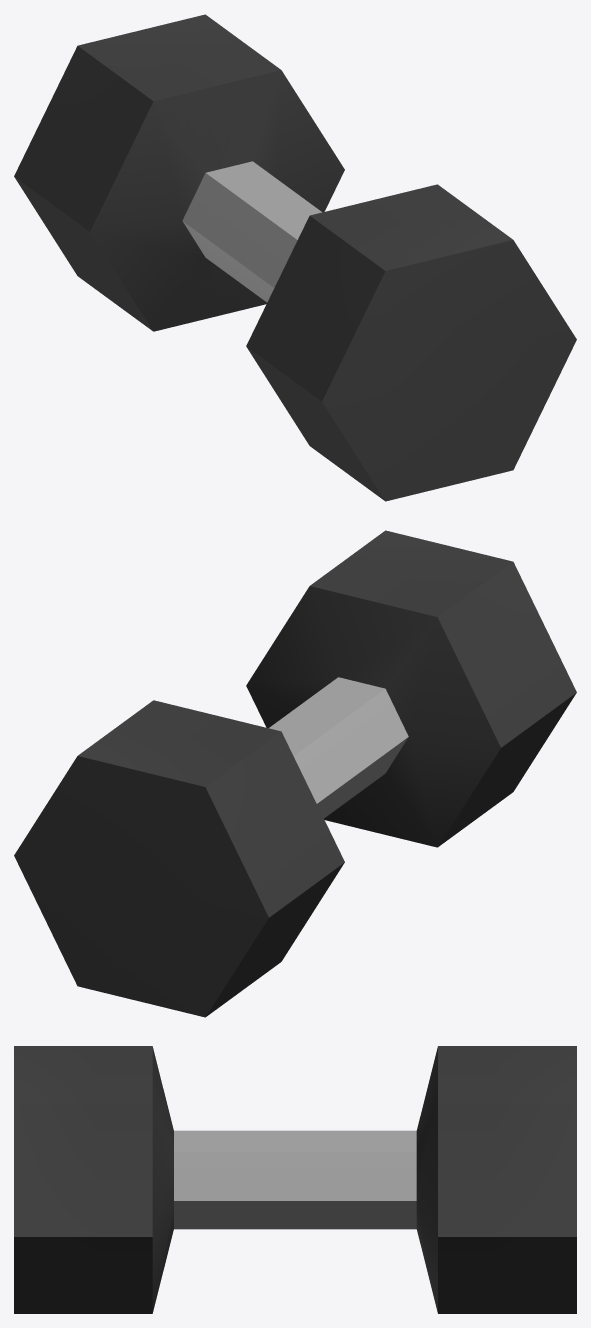
File: Dumbell.fbx
3 views of the same model, one above another, from view 1: azimuth 30°, elevation 25°; view 2: azimuth 150°, elevation 25°; view 3: azimuth 270°, elevation 25° (orthographic). The views are drawn at different scales.
Visible parts, largest first — view 1: Duumbell; view 2: Duumbell; view 3: Duumbell.
Part boxes in pixels (bbox=[...]): Duumbell: bbox=[14, 14, 576, 501]; Duumbell: bbox=[14, 530, 576, 1017]; Duumbell: bbox=[14, 1046, 576, 1313].
Bounding box in the file's own units: 0.3141 × 0.2713 × 0.657.
